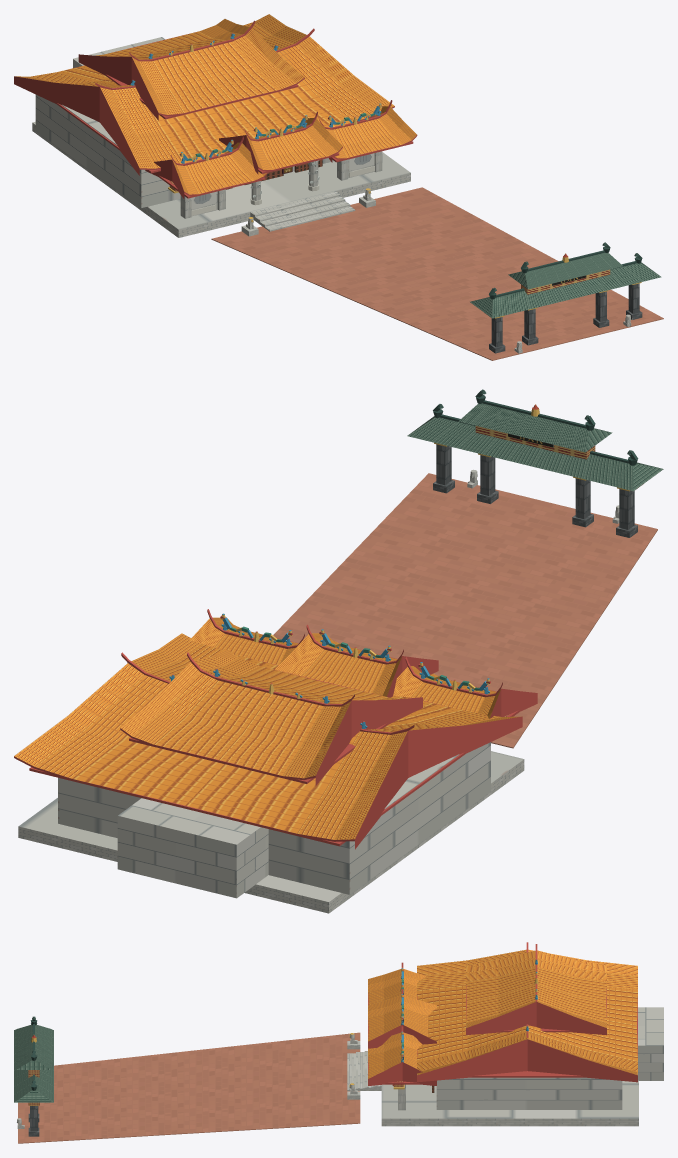
The model's file is hamasen-temple.glb.
3 renders of one model, top to bottom at view 1: azimuth 30°, elevation 25°; view 2: azimuth 150°, elevation 25°; view 3: azimuth 270°, elevation 25°, orthographic. The views are drawn at different scales.
Parts seen in each view (by area): view 1: hamasen-temple.001; view 2: hamasen-temple.001; view 3: hamasen-temple.001.
Boxes of the visible parts, x1=… form: hamasen-temple.001: x1=14, y1=14, x2=663, y2=360; hamasen-temple.001: x1=14, y1=389, x2=663, y2=913; hamasen-temple.001: x1=14, y1=942, x2=663, y2=1143.
Bounding box in the file's own units: 31.7 × 11.48 × 68.24.
1 material, 1 textured.
